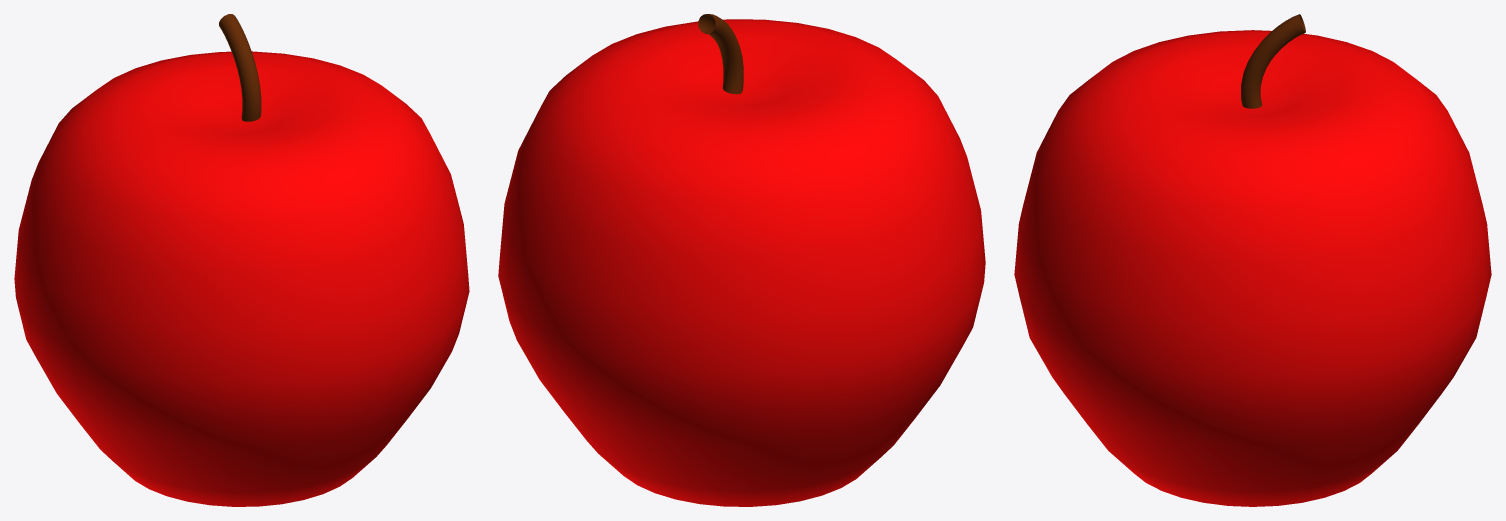
File: Apple.fbx
The picture shows the model from 3 angles, left to right: view 1: azimuth 30°, elevation 25°; view 2: azimuth 150°, elevation 25°; view 3: azimuth 270°, elevation 25°; orthographic projection. The views are drawn at different scales.
Visible parts, largest first — view 1: Apple, Stalk; view 2: Apple, Stalk; view 3: Apple, Stalk.
Boxes of the visible parts, x1,y1,x2,y2 form: Apple: (14,51,469,506); Stalk: (219,14,261,121); Apple: (498,19,985,506); Stalk: (698,14,743,94); Apple: (1014,30,1491,506); Stalk: (1241,14,1305,108).
Bounding box in the file's own units: 95.96 × 100 × 95.96.
